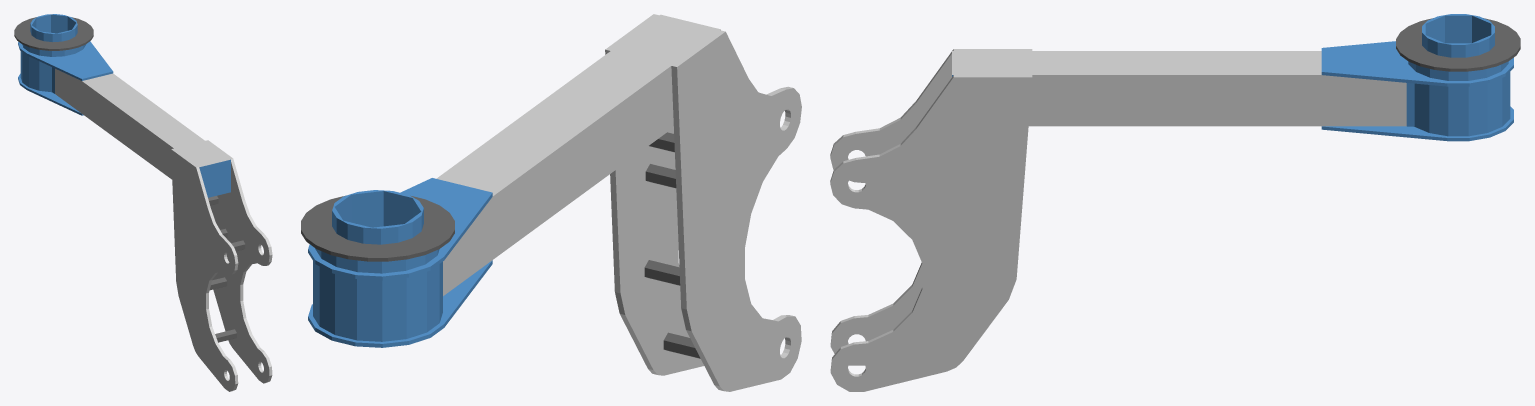
Rendered from arm.glb.
3 views of the same model, side by side, from view 1: azimuth 30°, elevation 25°; view 2: azimuth 150°, elevation 25°; view 3: azimuth 270°, elevation 25° (orthographic). The views are drawn at different scales.
Parts seen in each view (by area): view 1: mesh179, mesh243, mesh66, mesh68, mesh119, mesh154, mesh32, mesh82, mesh81, mesh113, mesh106, mesh114; view 2: mesh179, mesh66, mesh68, mesh243, mesh154, mesh119, mesh77, mesh78, mesh65, mesh76, mesh79, mesh106 (+6 smaller); view 3: mesh244, mesh67, mesh66, mesh212, mesh119, mesh154, mesh72, mesh73, mesh71, mesh106, mesh74, mesh116 (+1 smaller).
Boxes of the visible parts, x1,y1,x2,y2 form: mesh179: (171, 149, 235, 391); mesh243: (210, 162, 269, 383); mesh66: (82, 73, 232, 167); mesh68: (55, 68, 173, 179); mesh119: (18, 41, 112, 78); mesh154: (14, 17, 93, 48); mesh32: (199, 159, 230, 197); mesh82: (39, 61, 51, 92); mesh81: (29, 56, 39, 90); mesh113: (51, 14, 67, 33); mesh106: (18, 73, 80, 112); mesh114: (36, 14, 50, 32); mesh179: (677, 31, 801, 391); mesh66: (436, 14, 725, 196); mesh68: (443, 66, 673, 295); mesh243: (615, 127, 704, 375); mesh154: (301, 195, 454, 257); mesh119: (308, 178, 492, 276); mesh77: (357, 279, 382, 341); mesh78: (382, 278, 406, 341); mesh65: (671, 66, 686, 309); mesh76: (335, 274, 356, 340); mesh79: (406, 272, 426, 338); mesh106: (308, 261, 491, 343); mesh244: (830, 77, 1032, 391); mesh67: (1028, 75, 1406, 126); mesh66: (952, 49, 1321, 77); mesh212: (830, 54, 951, 365); mesh119: (1321, 41, 1513, 83); mesh154: (1396, 18, 1520, 68); mesh72: (1448, 86, 1468, 136); mesh73: (1468, 83, 1487, 136); mesh71: (1429, 85, 1448, 136); mesh106: (1322, 106, 1513, 137); mesh74: (1487, 78, 1502, 132); mesh116: (1445, 15, 1471, 43).
Size of the model in its own units: 0.1117 by 0.3445 by 0.6189.
